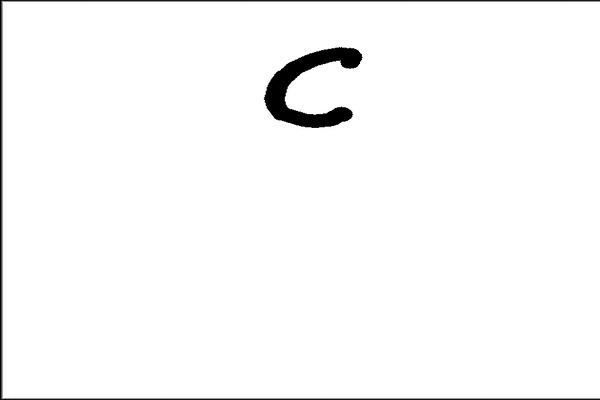C: (258, 39, 364, 132)
